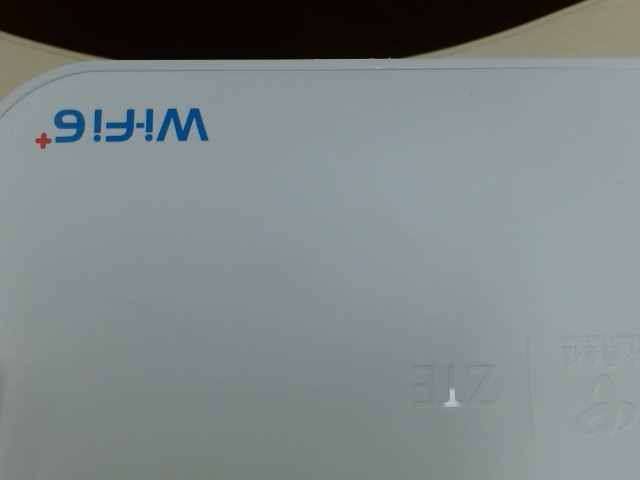AJ_ZTEWIFI6Plus: (27, 98, 221, 162)
